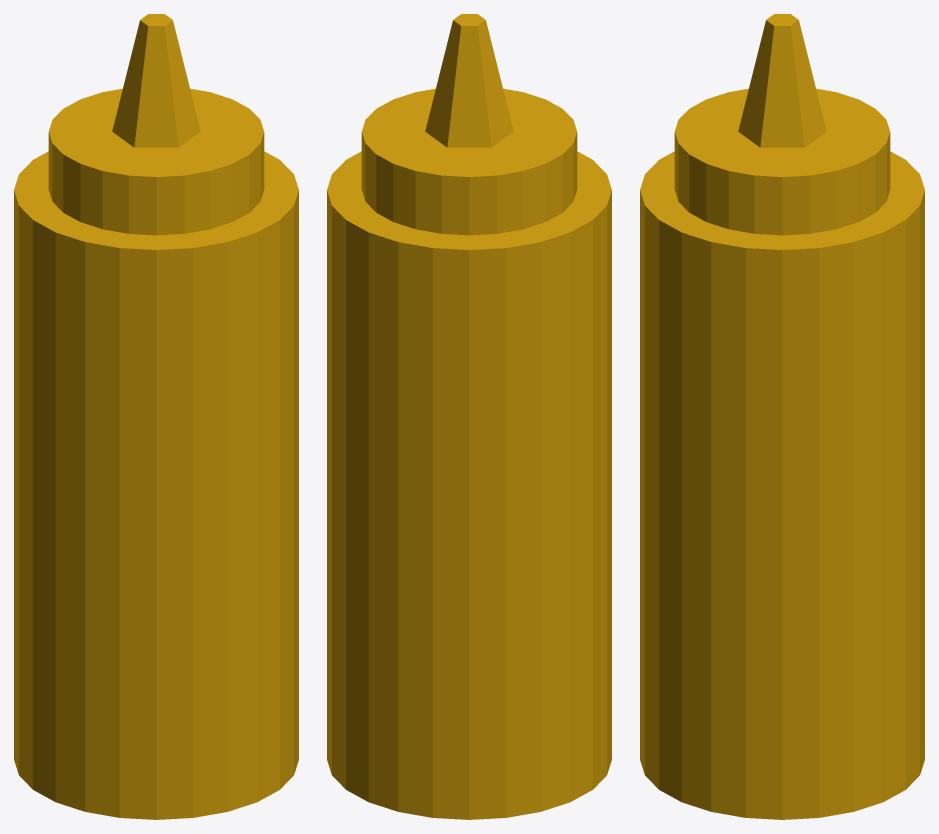
The model's file is Sauce Bottle 2.obj.
The picture shows the model from 3 angles, left to right: view 1: azimuth 30°, elevation 25°; view 2: azimuth 150°, elevation 25°; view 3: azimuth 270°, elevation 25°; orthographic projection.
Visible parts, largest first — view 1: Sauce_Bottle_2; view 2: Sauce_Bottle_2; view 3: Sauce_Bottle_2.
Boxes of the visible parts, bbox=[...] form: Sauce_Bottle_2: bbox=[14, 14, 298, 819]; Sauce_Bottle_2: bbox=[327, 14, 611, 819]; Sauce_Bottle_2: bbox=[640, 14, 924, 819].
Bounding box in the file's own units: 0.3 × 0.8595 × 0.3.
